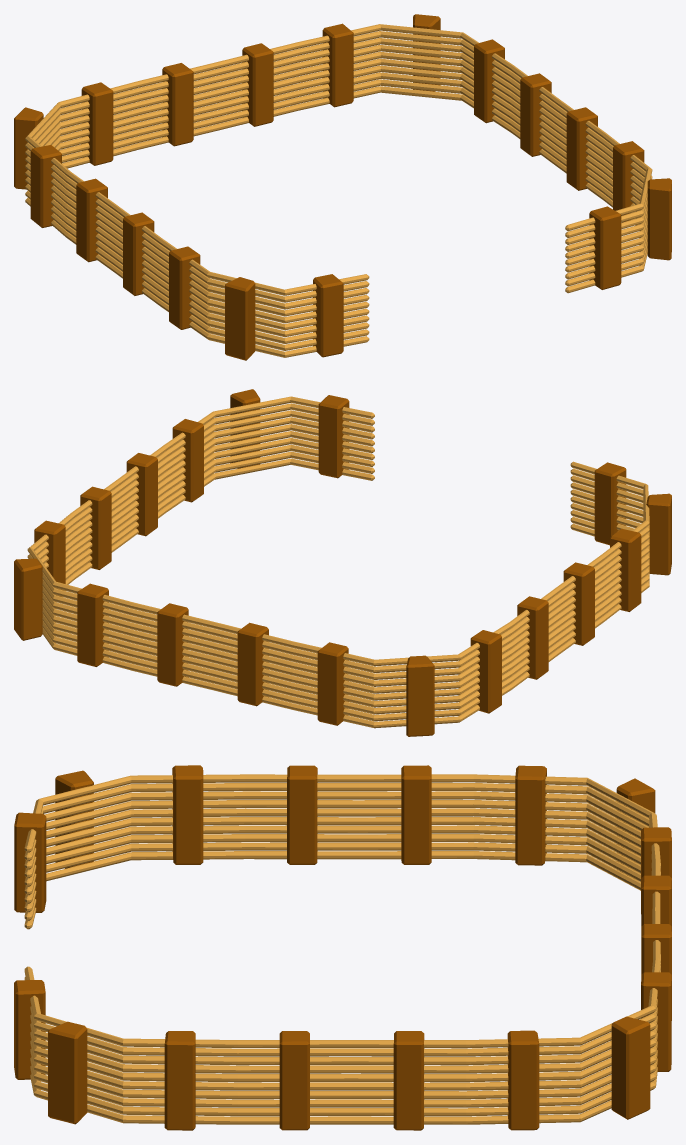
The model's file is FunMediumLvl1.fbx.
3 renders of one model, top to bottom at view 1: azimuth 30°, elevation 25°; view 2: azimuth 150°, elevation 25°; view 3: azimuth 270°, elevation 25°, orthographic. The views are drawn at different scales.
Visible parts, largest first — view 1: FenceM1; view 2: FenceM1; view 3: FenceM1.
Boxes of the visible parts, x1=… form: FenceM1: x1=14, y1=14, x2=671, y2=360; FenceM1: x1=14, y1=389, x2=671, y2=736; FenceM1: x1=14, y1=765, x2=671, y2=1130.
Size of the model in its own units: 245 by 36.54 by 245.
